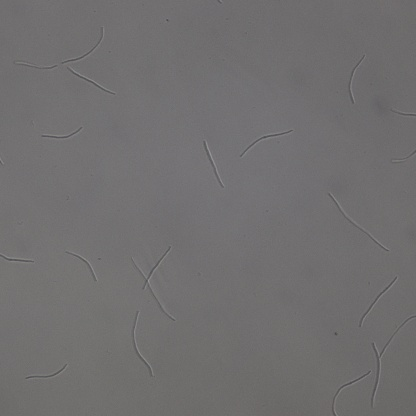Sensitive: (369, 315, 416, 408), (328, 193, 386, 250), (131, 244, 173, 320), (330, 371, 371, 416), (359, 277, 396, 325), (64, 27, 105, 63), (130, 310, 152, 377), (240, 130, 291, 155), (68, 68, 114, 94), (64, 249, 94, 278), (204, 142, 222, 186), (348, 57, 365, 103), (25, 365, 68, 381), (41, 124, 81, 139), (1, 252, 34, 263)
